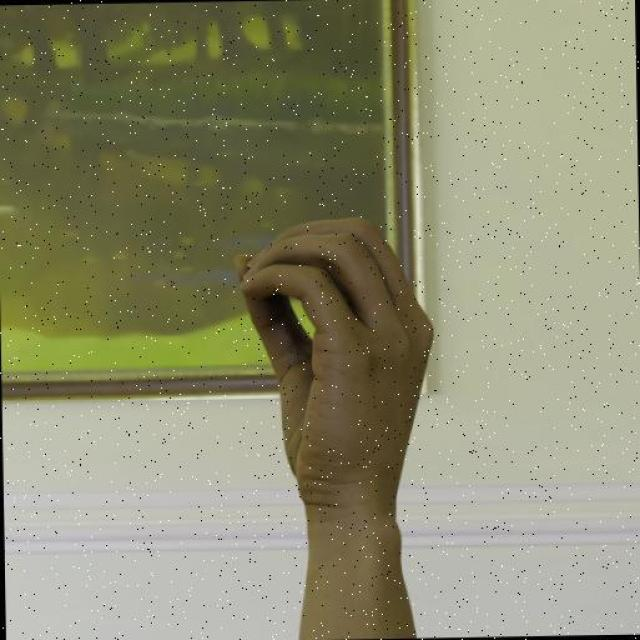O: (230, 211, 441, 510)
